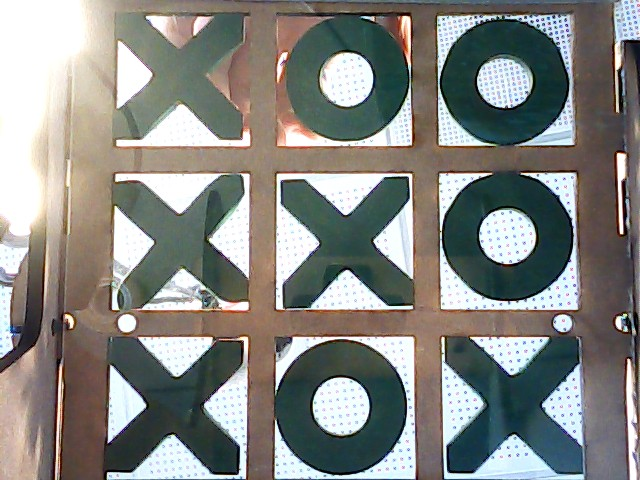O: (278, 338, 414, 477), (441, 177, 581, 308), (438, 14, 575, 143), (282, 14, 410, 141)
X: (441, 336, 584, 477), (108, 339, 247, 475), (276, 177, 409, 311), (113, 11, 246, 143), (115, 179, 248, 308)
